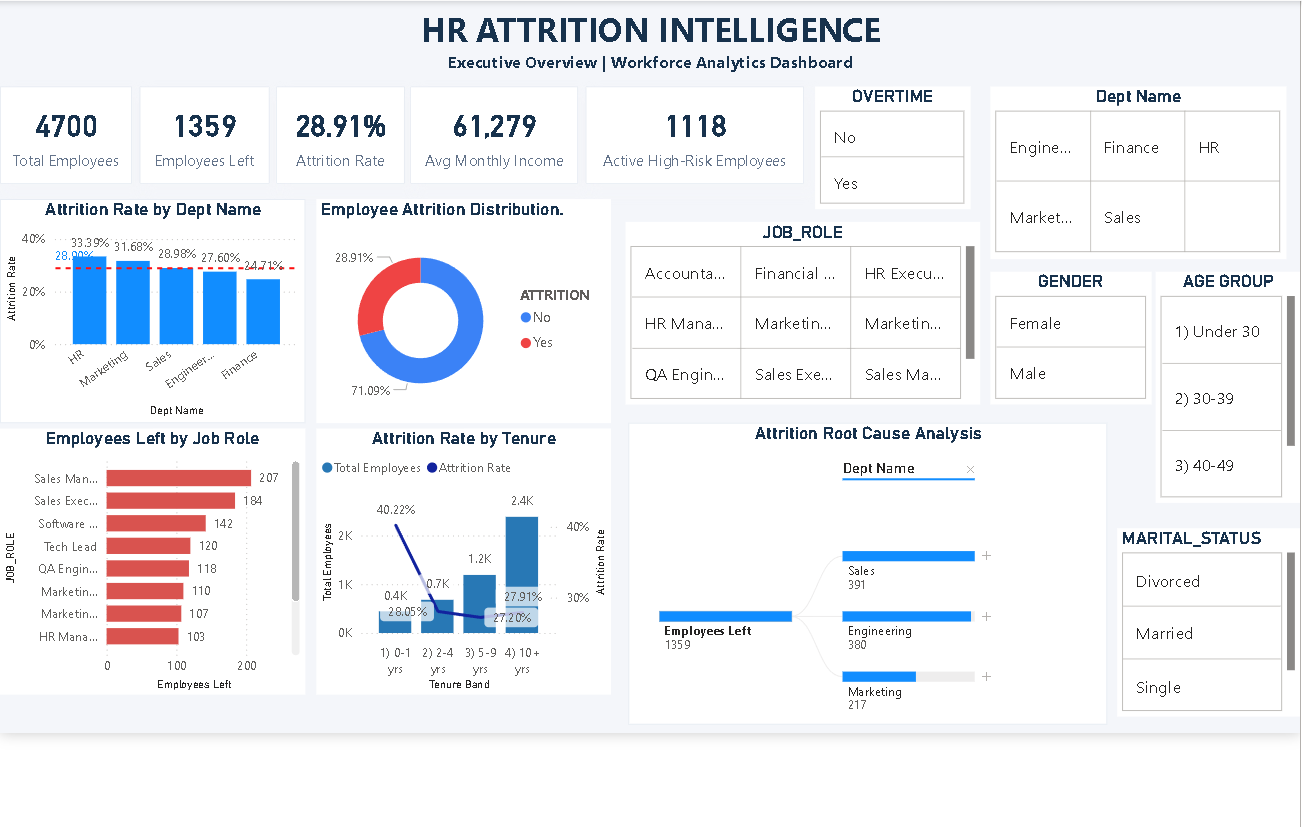

This screenshot's page, from the dashboard's own definition file:
{"tool":"powerbi","page":{"name":"Executive Overview","canvas":[1280,720],"ordinal":0},"visuals":[{"type":"card","fields":{"Values":["_measures.Total Employees"]},"box":[0,84.1,130,95.3],"z":0},{"type":"card","fields":{"Values":["_measures.Employees Left"]},"box":[136.8,84.1,127.5,95.3],"z":1000},{"type":"card","fields":{"Values":["_measures.Attrition Rate"]},"box":[271.2,84.1,126.1,95.3],"z":2000},{"type":"card","fields":{"Values":["_measures.Avg Monthly Income"]},"box":[404.2,84.1,165,95.3],"z":3000},{"type":"card","fields":{"Values":["_measures.Active High-Risk Employees"]},"box":[576,84.1,215,95.3],"z":4000},{"type":"advancedSlicerVisual","fields":{"Values":["HR_ATTRITION_FINAL.Dept Name"]},"box":[974.1,84.1,291.5,169.6],"z":5000},{"type":"advancedSlicerVisual","fields":{"Values":["HR_ATTRITION_FINAL.JOB_ROLE"]},"box":[615.3,217.2,349,179.4],"z":6000},{"type":"advancedSlicerVisual","fields":{"Values":["HR_ATTRITION_FINAL.OVERTIME"]},"box":[801.7,84.1,152.8,120.5],"z":7000},{"type":"advancedSlicerVisual","title":"AGE GROUP","fields":{"Values":["HR_ATTRITION_FINAL.Age Group"]},"box":[1136.7,266.3,143,227.1],"z":8000},{"type":"advancedSlicerVisual","fields":{"Values":["HR_ATTRITION_FINAL.MARITAL_STATUS"]},"box":[1098.8,518.6,180.8,185],"z":9000},{"type":"advancedSlicerVisual","fields":{"Values":["HR_ATTRITION_FINAL.GENDER"]},"box":[974.1,266.3,158.4,130.3],"z":10000},{"type":"clusteredColumnChart","fields":{"Category":["HR_ATTRITION_FINAL.Dept Name"],"Y":["_measures.Attrition Rate"]},"box":[0,194.8,300,220],"z":11000},{"type":"donutChart","title":"Employee Attrition Distribution.","fields":{"Category":["HR_ATTRITION_FINAL.ATTRITION"],"Y":["_measures.Total Employees"]},"box":[311.1,194.8,290.1,220],"z":12000},{"type":"clusteredBarChart","title":"Employees Left by Job Role","fields":{"Category":["HR_ATTRITION_FINAL.JOB_ROLE"],"Y":["_measures.Employees Left"]},"box":[0,420.5,300,262],"z":13000},{"type":"lineClusteredColumnComboChart","title":"Attrition Rate by Tenure","fields":{"Category":["HR_ATTRITION_FINAL.Tenure Band"],"Y":["_measures.Total Employees"],"Y2":["_measures.Attrition Rate"]},"box":[311.1,420.5,290.1,262.1],"z":14000},{"type":"decompositionTreeVisual","title":"Attrition Root Cause Analysis","fields":{"Analyze":["_measures.Employees Left"],"ExplainBy":["HR_ATTRITION_FINAL.Dept Name","HR_ATTRITION_FINAL.Tenure Band","HR_ATTRITION_FINAL.Income Band","HR_ATTRITION_FINAL.JOB_ROLE","HR_ATTRITION_FINAL.OVERTIME"]},"box":[618.1,414.9,470.9,297.1],"z":15000},{"type":"textbox","box":[0,0,1279.6,84.1],"z":16000}]}

Visuals, with their boxes on the page's 1280x720 design canvas (x1, y1, x2, y2). These are canvas units, not pixel positions in the 1302x827 screenshot, which may show the page scaled, cropped or inside an application window:
card - _measures.Total Employees: box(0, 84, 130, 179)
card - _measures.Employees Left: box(137, 84, 264, 179)
card - _measures.Attrition Rate: box(271, 84, 397, 179)
card - _measures.Avg Monthly Income: box(404, 84, 569, 179)
card - _measures.Active High-Risk Employees: box(576, 84, 791, 179)
advancedSlicerVisual - HR_ATTRITION_FINAL.Dept Name: box(974, 84, 1266, 254)
advancedSlicerVisual - HR_ATTRITION_FINAL.JOB_ROLE: box(615, 217, 964, 397)
advancedSlicerVisual - HR_ATTRITION_FINAL.OVERTIME: box(802, 84, 954, 205)
"AGE GROUP" advancedSlicerVisual: box(1137, 266, 1280, 493)
advancedSlicerVisual - HR_ATTRITION_FINAL.MARITAL_STATUS: box(1099, 519, 1280, 704)
advancedSlicerVisual - HR_ATTRITION_FINAL.GENDER: box(974, 266, 1132, 397)
clusteredColumnChart - HR_ATTRITION_FINAL.Dept Name x _measures.Attrition Rate: box(0, 195, 300, 415)
"Employee Attrition Distribution." donutChart: box(311, 195, 601, 415)
"Employees Left by Job Role" clusteredBarChart: box(0, 420, 300, 682)
"Attrition Rate by Tenure" lineClusteredColumnComboChart: box(311, 420, 601, 683)
"Attrition Root Cause Analysis" decompositionTreeVisual: box(618, 415, 1089, 712)
textbox: box(0, 0, 1280, 84)
